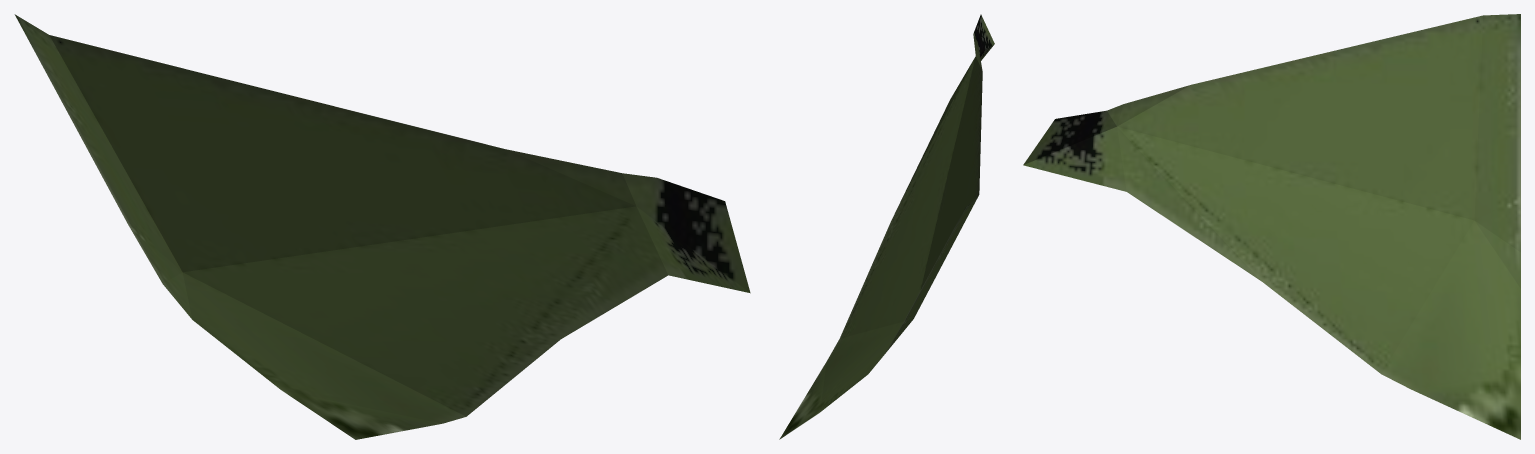
3 renders of one model, left to right at view 1: azimuth 30°, elevation 25°; view 2: azimuth 150°, elevation 25°; view 3: azimuth 270°, elevation 25°, orthographic. The views are drawn at different scales.
Size of the model in its own units: 1.73 by 2.47 by 3.47.
1 material, 1 textured.
